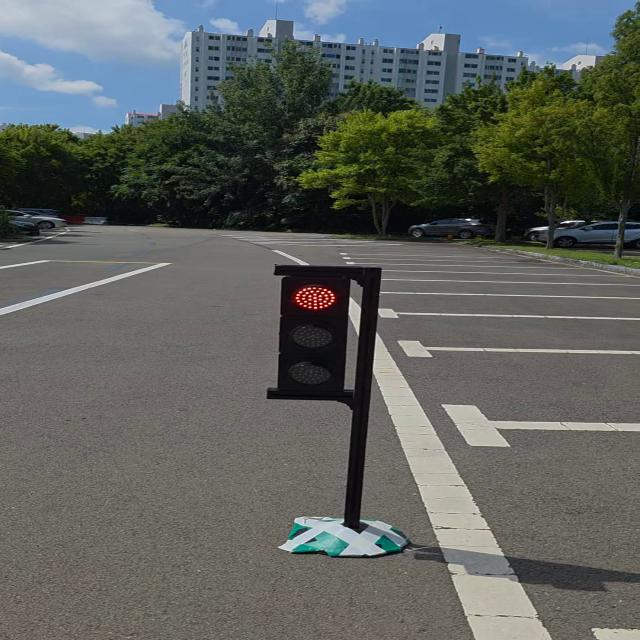red: (253, 264, 393, 402)
